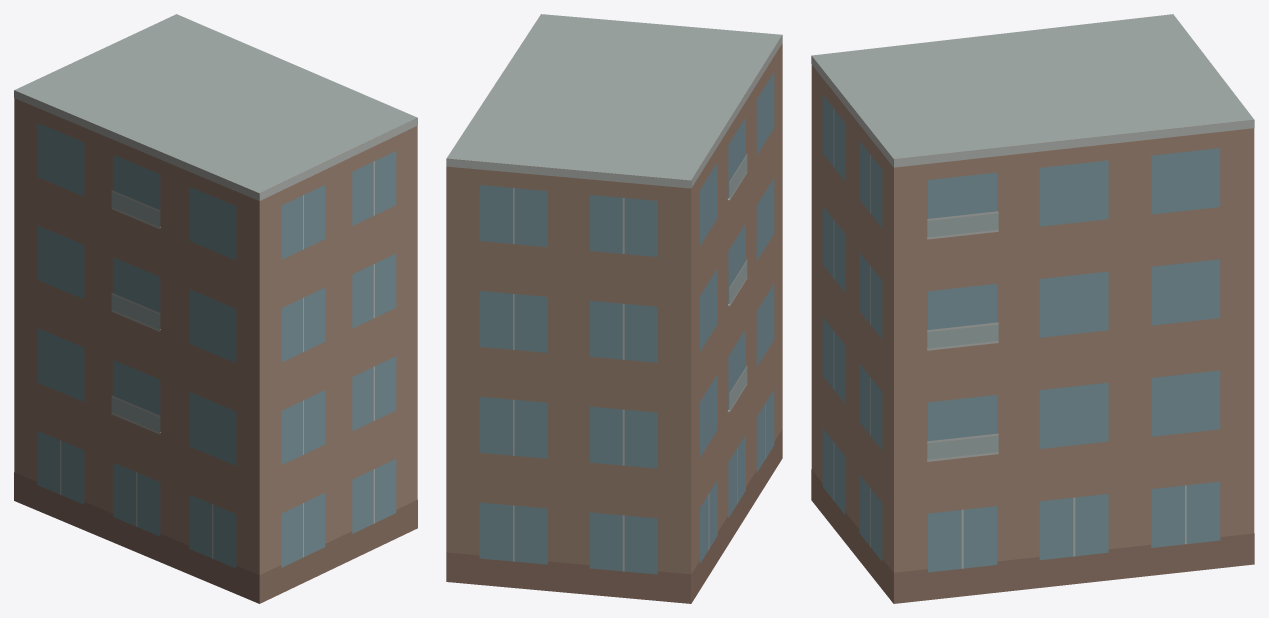
File: survey-upis-32462321.glb
3 renders of one model, left to right at view 1: azimuth 30°, elevation 25°; view 2: azimuth 150°, elevation 25°; view 3: azimuth 270°, elevation 25°, orthographic. The views are drawn at different scales.
Visible parts, largest first — view 1: survey-upis-32462321.tmp; view 2: survey-upis-32462321.tmp; view 3: survey-upis-32462321.tmp.
Part boxes in pixels (x1=…): survey-upis-32462321.tmp: x1=14, y1=14, x2=417, y2=603; survey-upis-32462321.tmp: x1=446, y1=14, x2=782, y2=603; survey-upis-32462321.tmp: x1=811, y1=14, x2=1254, y2=603.
Size of the model in its own units: 8.97 by 12.8 by 11.57.
